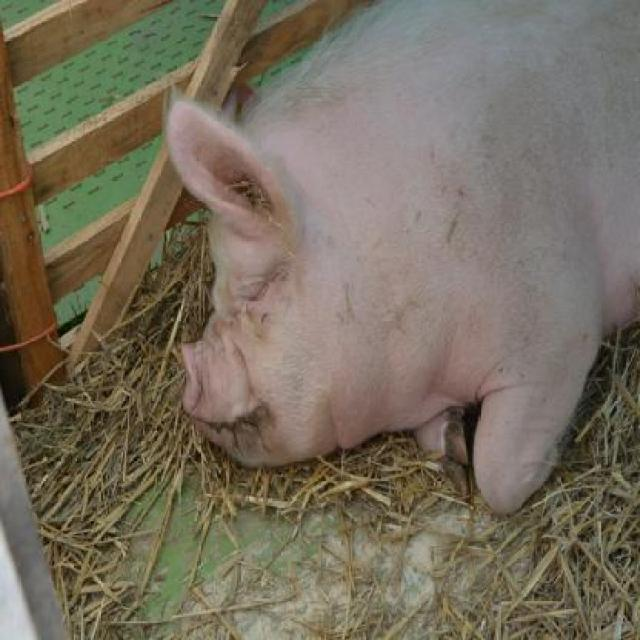pig: (158, 0, 638, 518)
